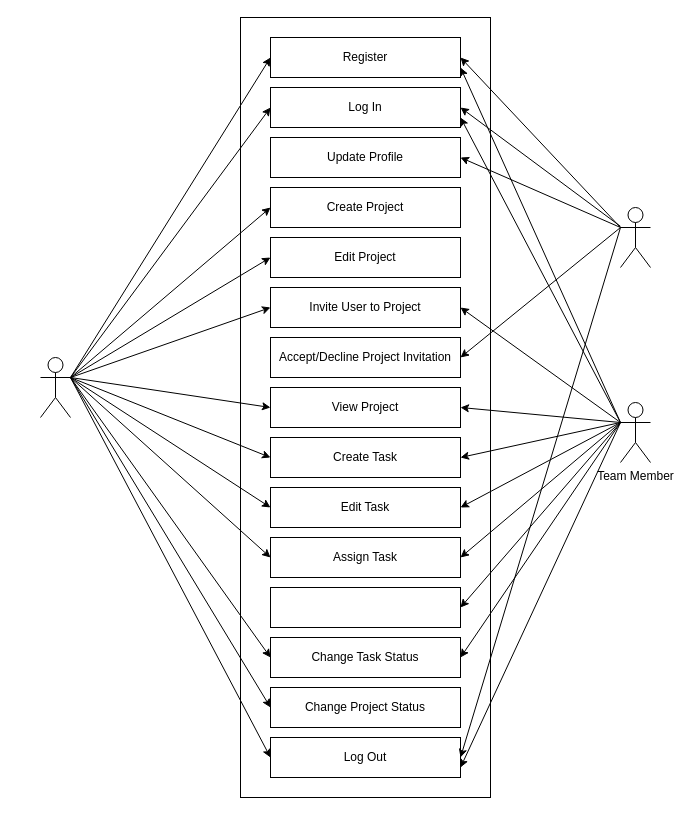
Some shapes in this 691 by 815 pixel diagram are drawn without their labels. The shapes that lost their labels are listed below. From the top down, each one's centre as x and y in pixels, then its label:
the point at 635,237: User
the point at 55,387: Project Owner
the point at 365,607: View Notification
